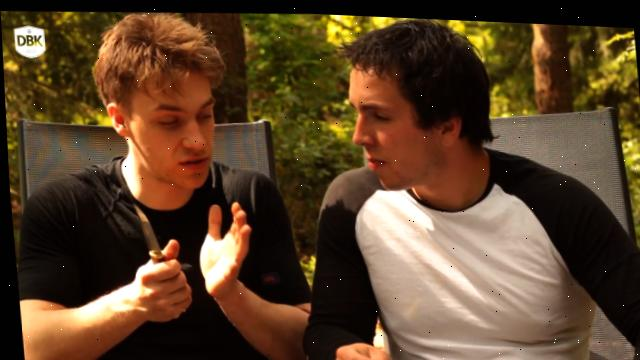pocket-knife: (126, 191, 176, 268)
